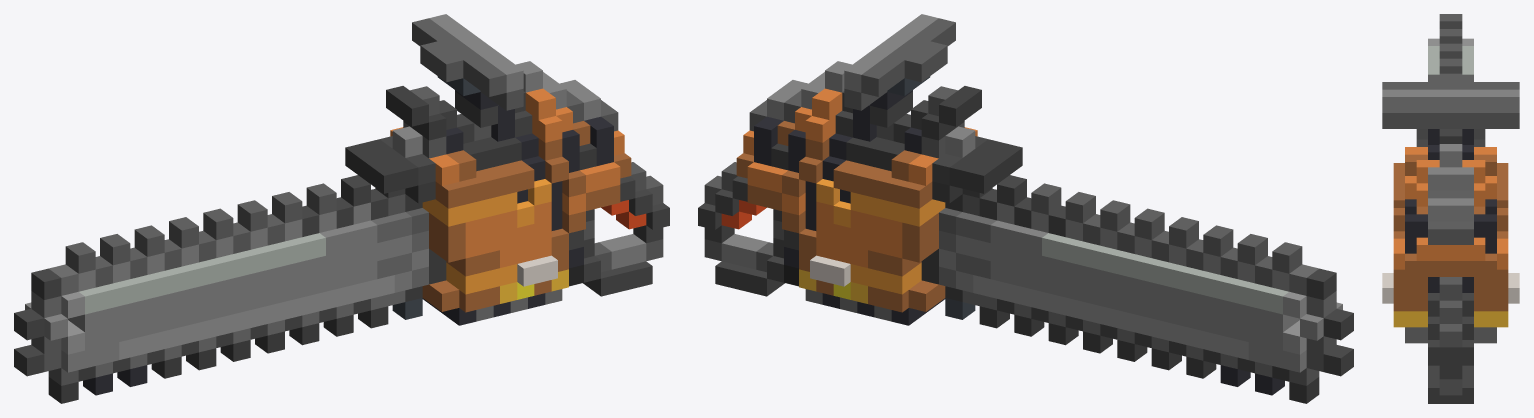
Rendered from Saw_HSQ_Voov.obj.
The picture shows the model from 3 angles, left to right: view 1: azimuth 30°, elevation 25°; view 2: azimuth 150°, elevation 25°; view 3: azimuth 270°, elevation 25°; orthographic projection. The views are drawn at different scales.
Bounding box in the file's own units: 37 × 15 × 7.8.
